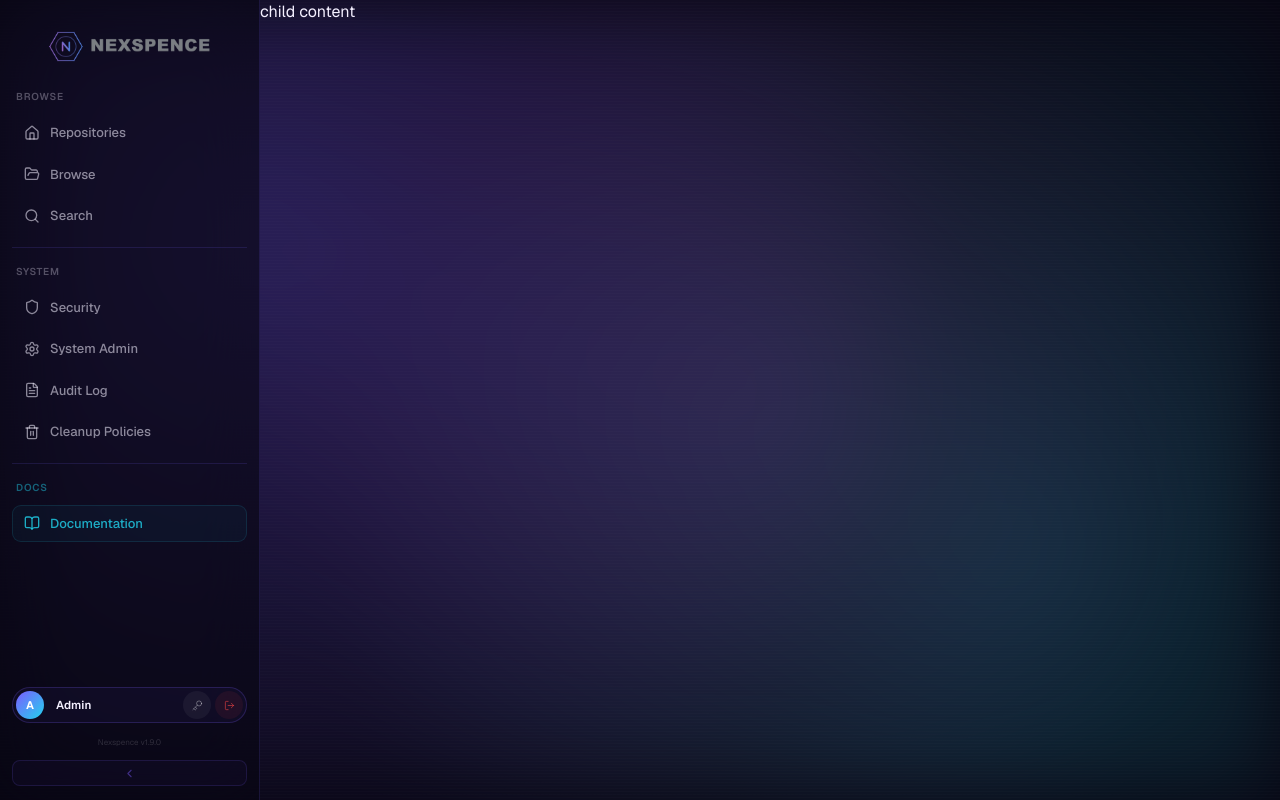
Test case: Layout ProfileModal token management › lists existing tokens
The image size is (1280, 800).
Click the button titled "API Tokens & Profile" at (197, 705), box [183,691,211,719]
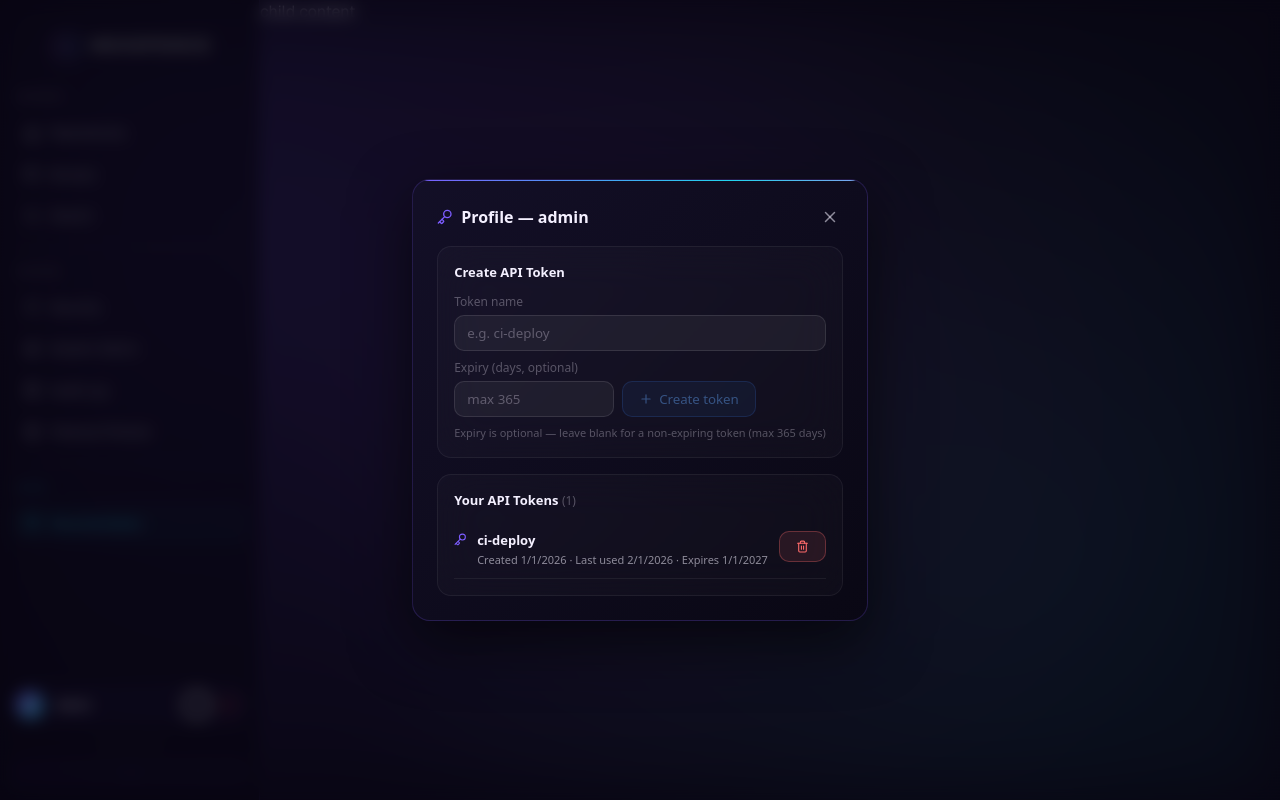
Check: the text "ci-deploy" is shown, box [477,531,535,549]
Check: the text "Created 1/1/2026 · Last used 2/1/2026 · Expires 1/1/2027" is shown, box [477,552,769,568]
